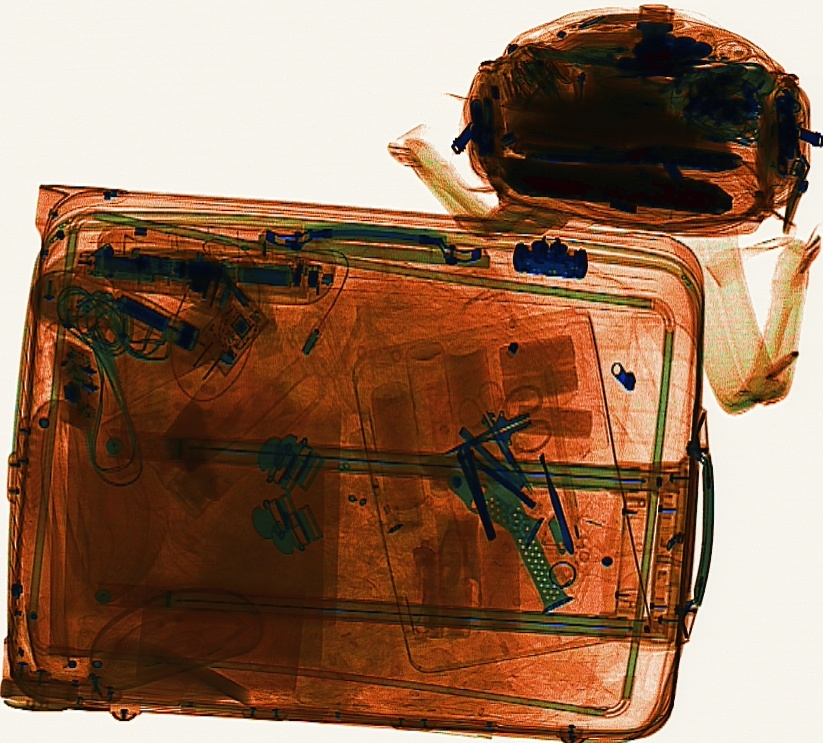scissors: (456, 381, 536, 496), (440, 383, 554, 462)
